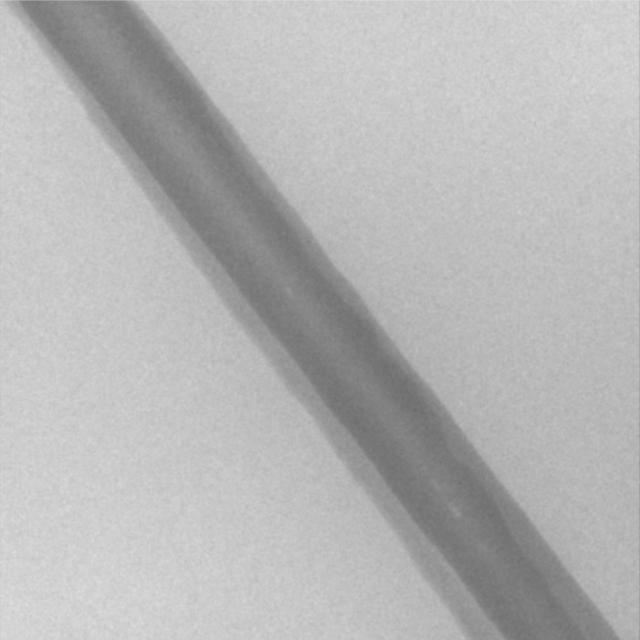air hole: (450, 506, 462, 518)
